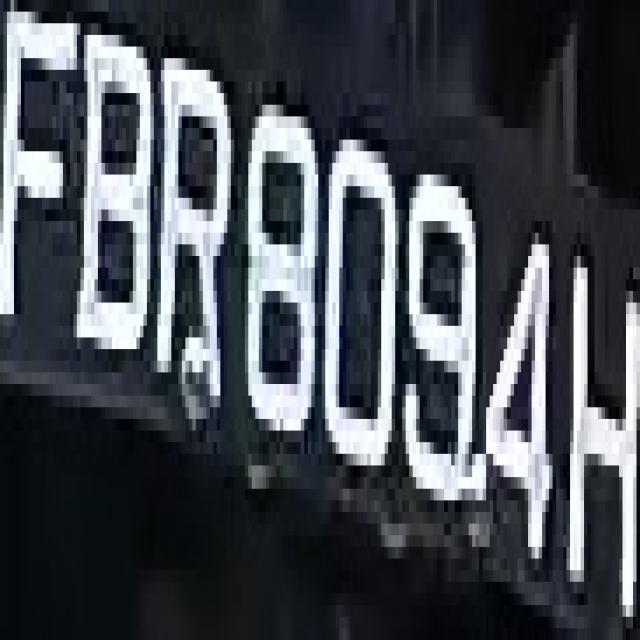0: (329, 105, 402, 512)
4: (476, 163, 560, 558)
8: (242, 93, 318, 489)
9: (399, 140, 486, 512)
B: (80, 12, 161, 396)
F: (14, 12, 77, 326)
H: (559, 220, 640, 628)
R: (150, 47, 234, 396)
